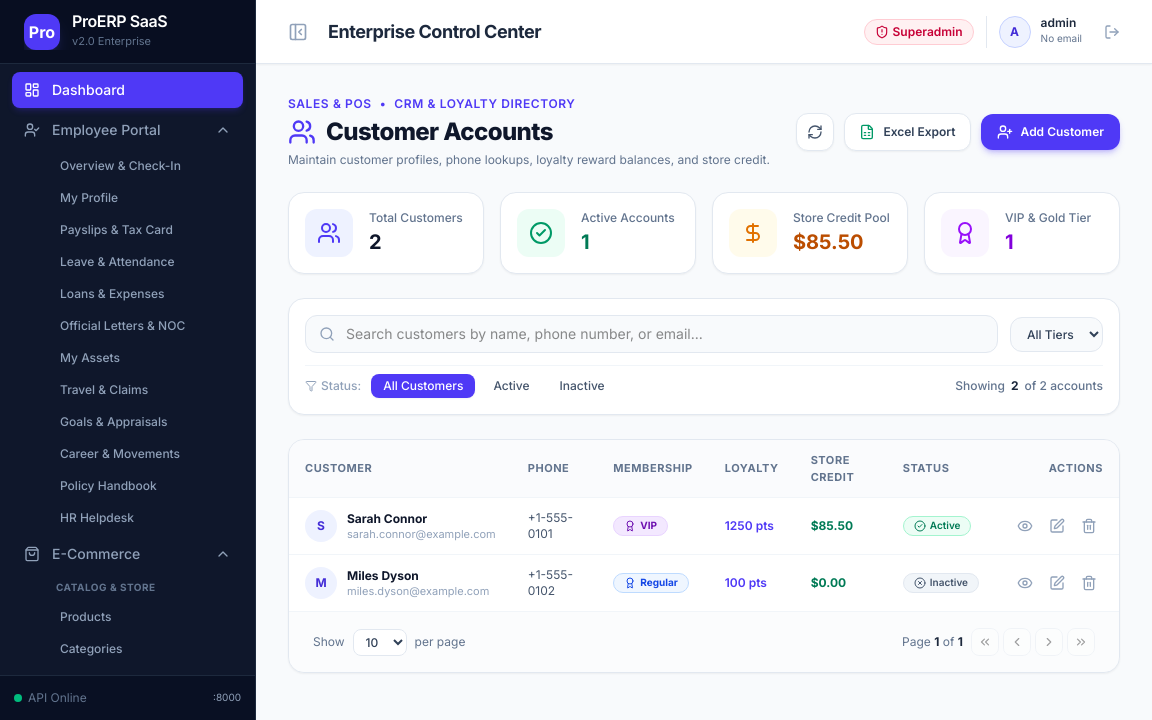
Scenario: Ecommerce Customer Directory In-Place Non-Destructive Filtering Audit › opens customer detail slide-over drawer with profile and balance details
Click the button "Sarah Connor".
click(387, 519)  # box [347,511,427,527]
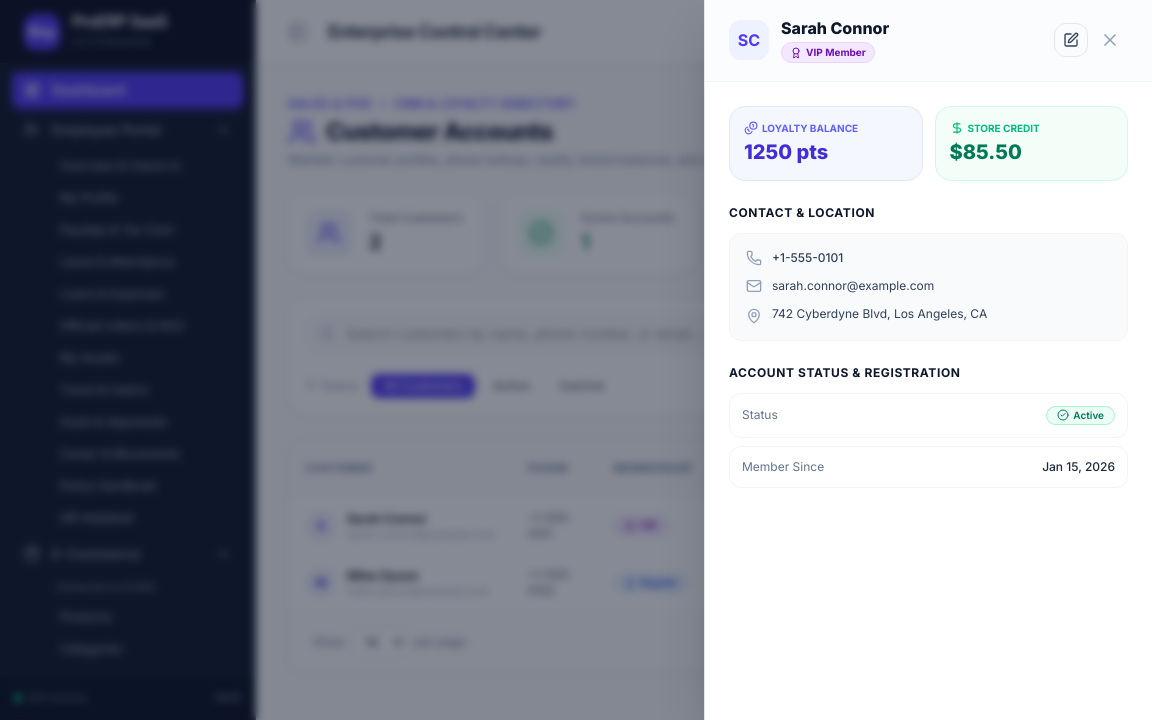
Now the text "Loyalty Balance" is shown, box [744,121,858,135]
Now the text "742 Cyberdyne Blvd, Los Angeles, CA" is shown, box [772,306,987,322]
Now the text "VIP Member" is shown, box [781,42,875,63]
